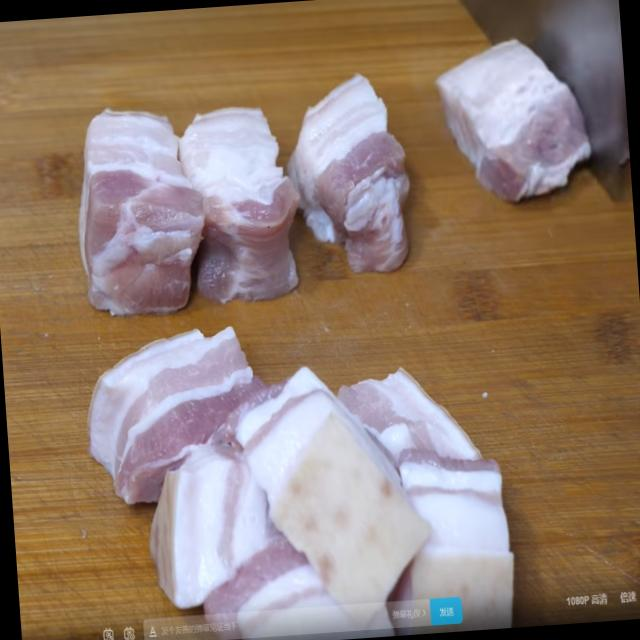--: (334, 357, 526, 602), (228, 355, 418, 594), (278, 62, 453, 286), (413, 4, 588, 202), (70, 67, 204, 324), (68, 328, 283, 474), (170, 89, 302, 319)
